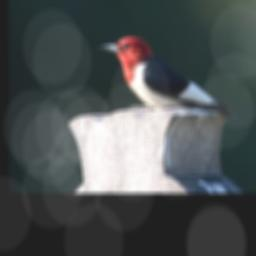Woodpecker: (94, 35, 243, 126)
